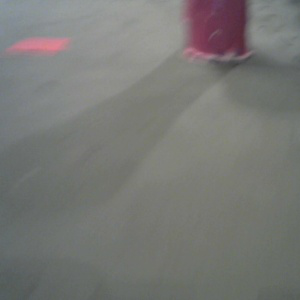right: (180, 1, 252, 66)
